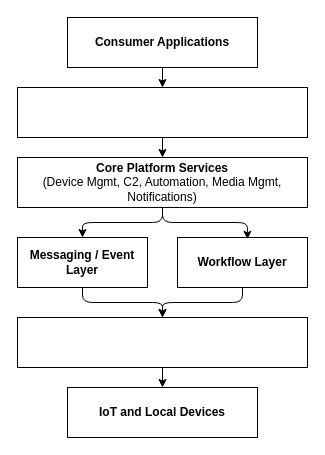
The diagram is 325 pixels wide and 455 high, and some of its shapes have lost their labels. The centre of each missing label's shape, as x and y in pixels:
Data Layer (Operational DB, Video Storage, Event Logs): pixel 162 342
Edge, Access, and Security Layer (Identity Provider, API Gateway, Firewall): pixel 162 112
